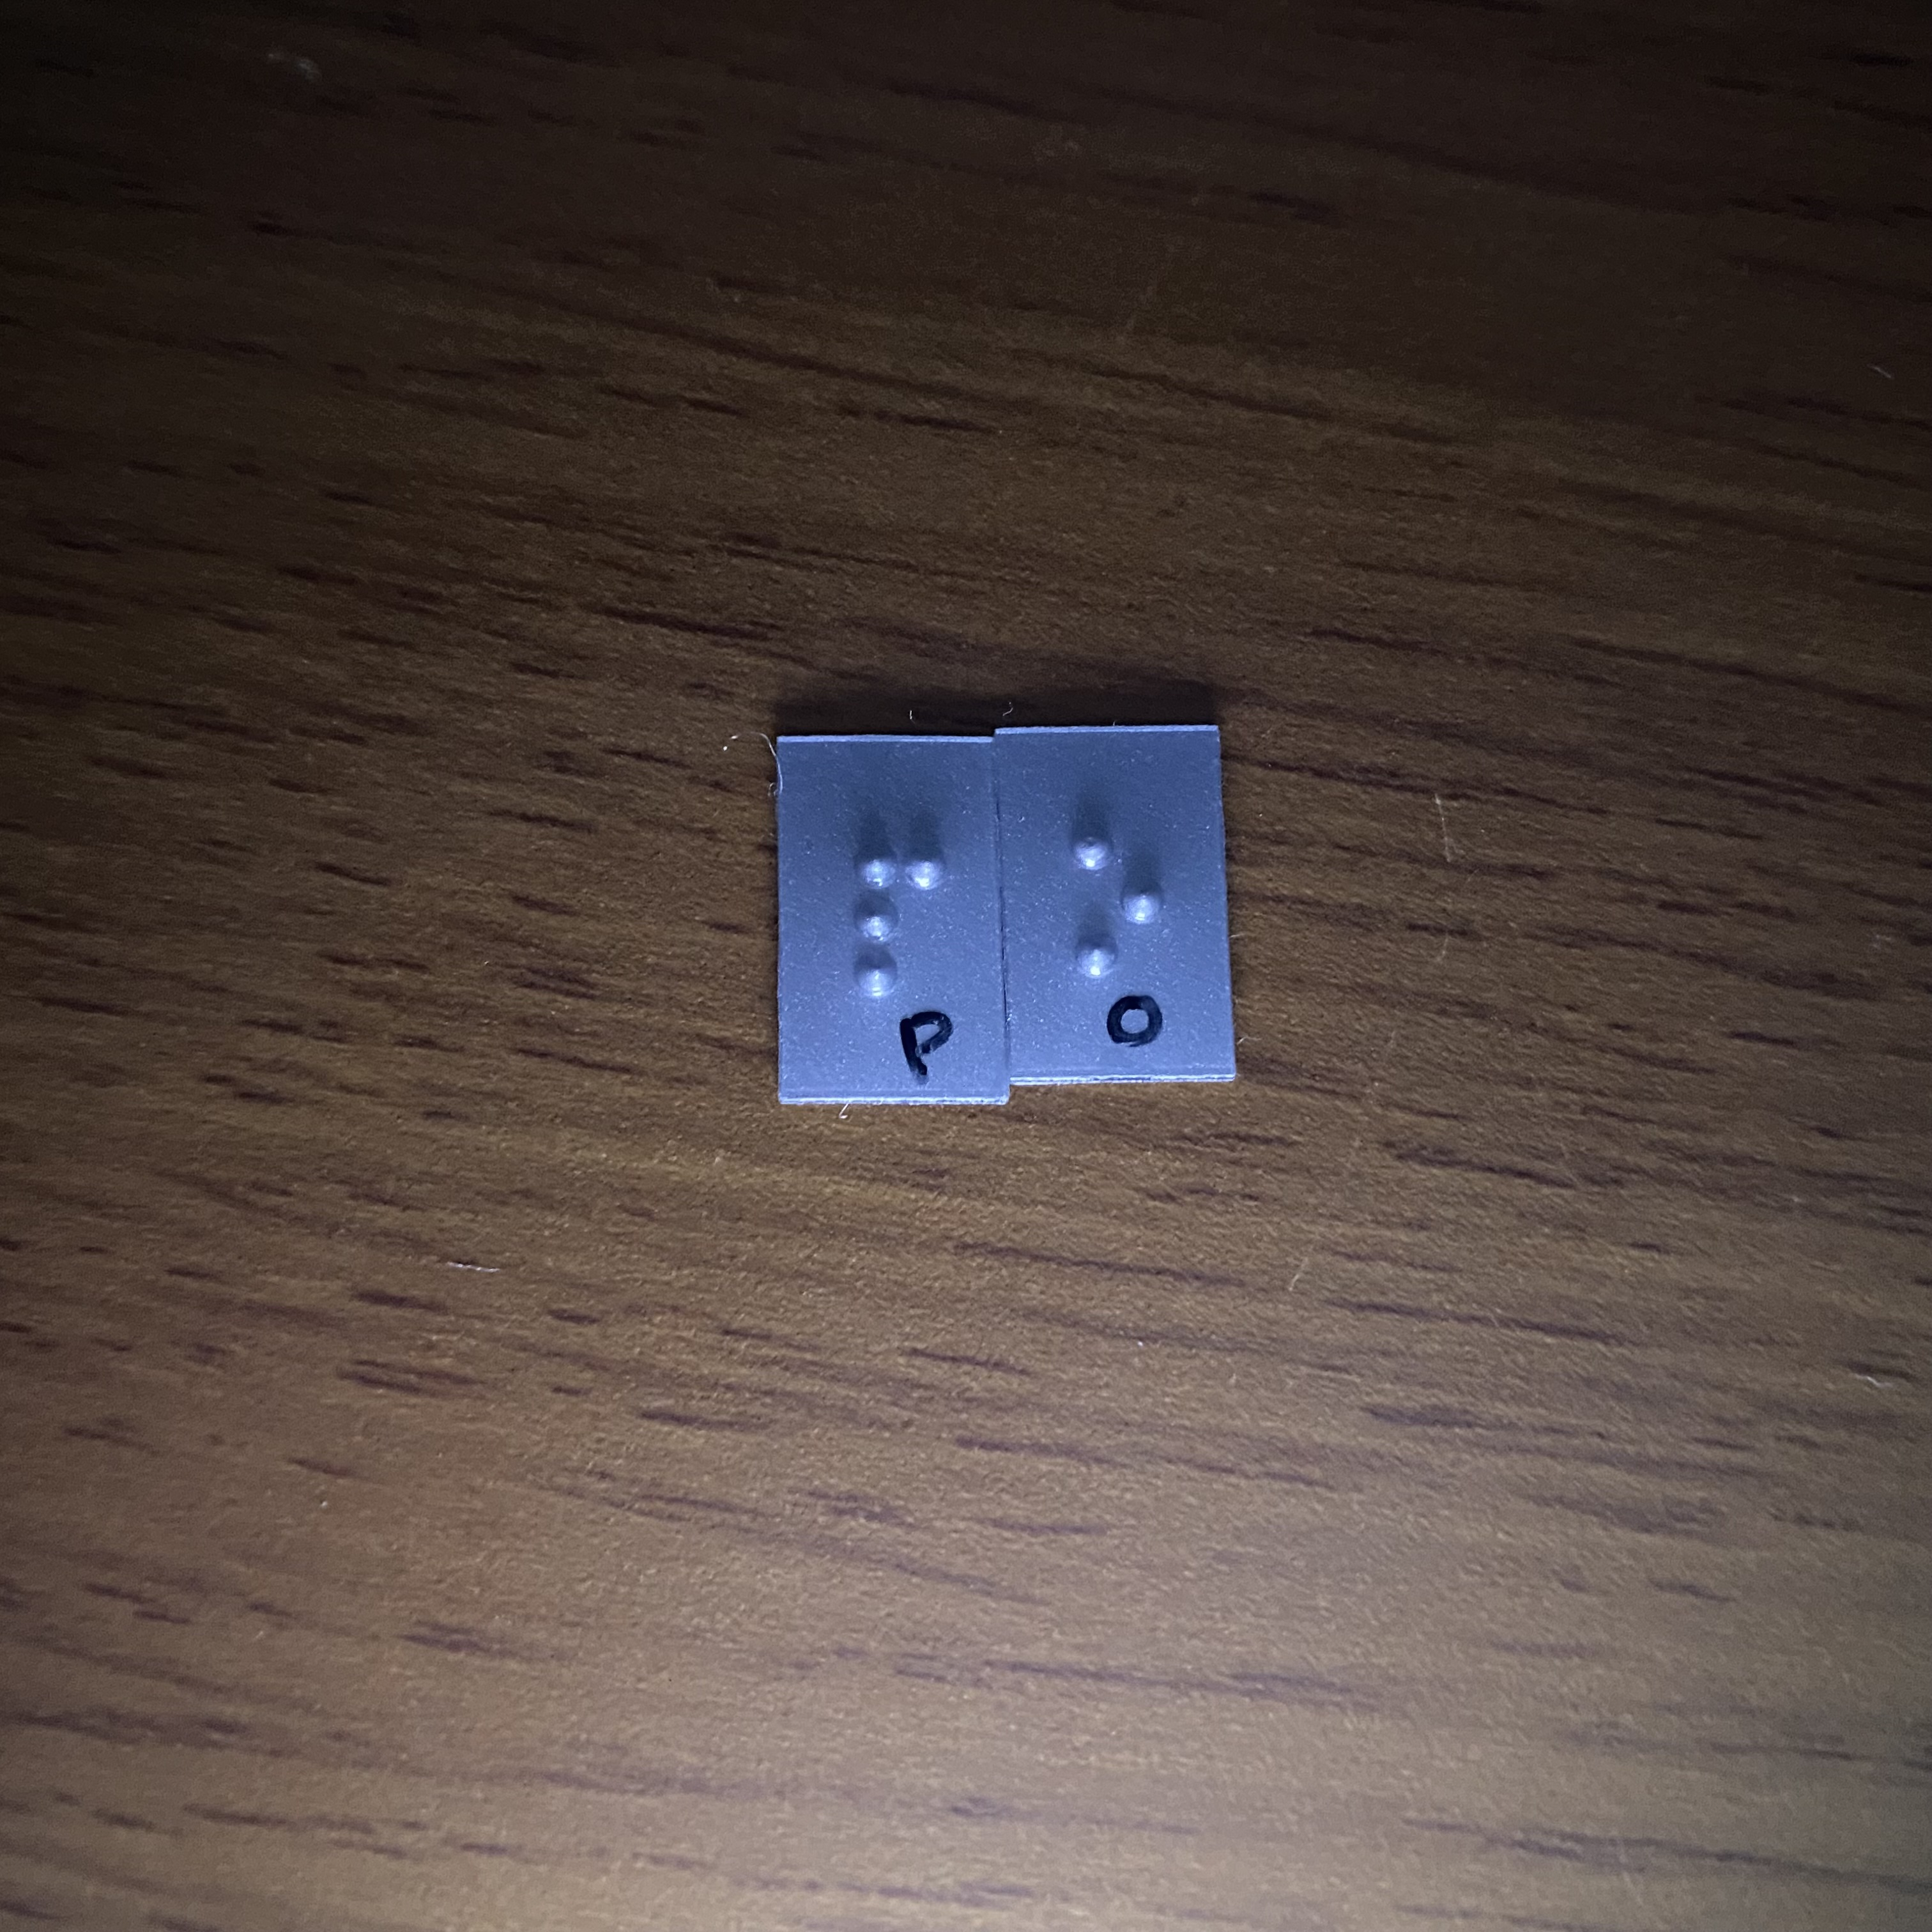o: (1058, 797, 1188, 983)
p: (838, 815, 965, 1009)
